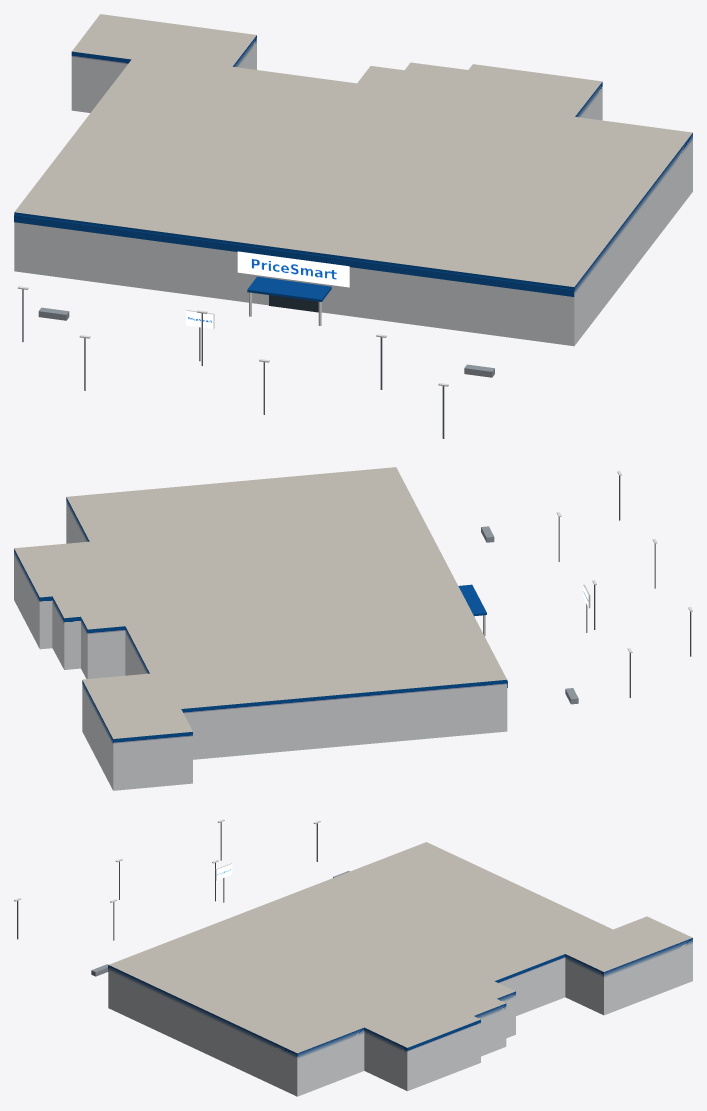
File: pricesmart.glb
3 renders of one model, top to bottom at view 1: azimuth 30°, elevation 25°; view 2: azimuth 150°, elevation 25°; view 3: azimuth 270°, elevation 25°, orthographic. The views are drawn at different scales.
Visible parts, largest first — view 1: pricesmart_lod0; view 2: pricesmart_lod0; view 3: pricesmart_lod0.
Part boxes in pixels (x1=…): pricesmart_lod0: x1=14, y1=14, x2=692, y2=438; pricesmart_lod0: x1=14, y1=467, x2=692, y2=790; pricesmart_lod0: x1=14, y1=819, x2=692, y2=1096.
Size of what is drawn, in the model's own units: 118 by 10 by 142.
Materials: 11 (2 with a texture image).
